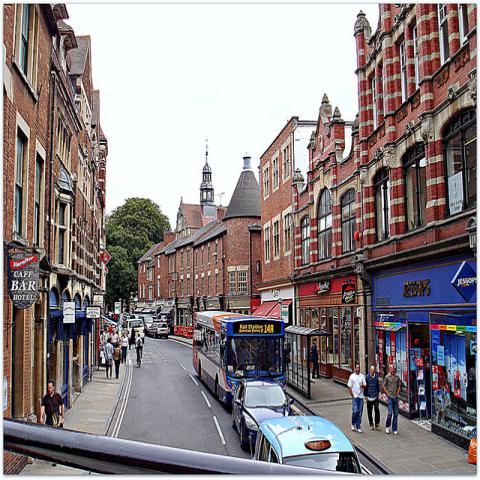bus: (192, 310, 286, 408)
car: (253, 416, 360, 472), (230, 377, 295, 454), (123, 319, 145, 343), (148, 323, 168, 339), (139, 314, 153, 334)
